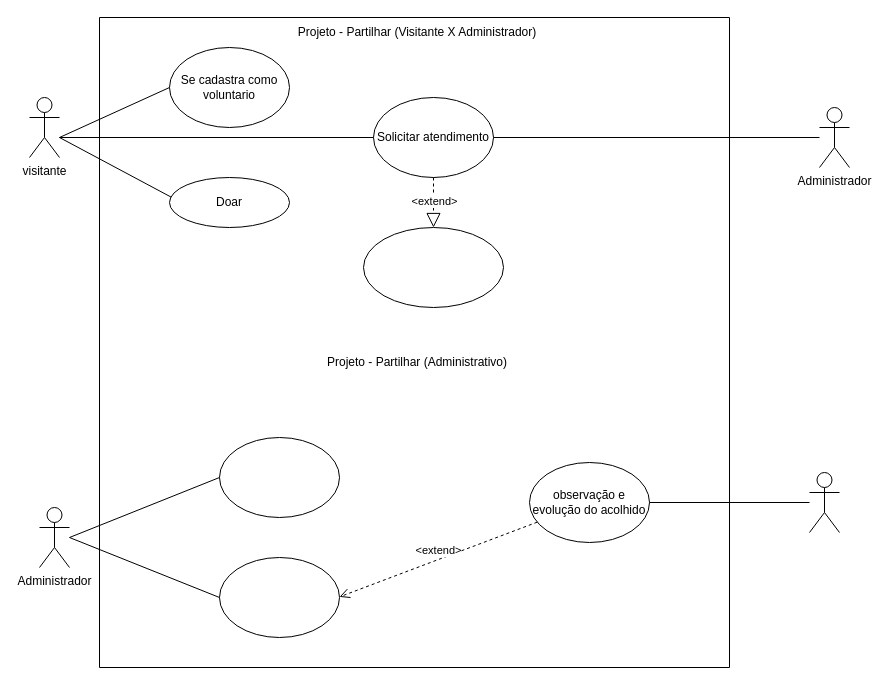
Image size: 888x686. Some labels were removed from this diagram. Each missing label, with the centre of its shape:
"Recebe os formularios do voluntariado" belongs at (279,477).
"Verifica a planilha com datas e horários" belongs at (433,267).
"Visualiza planilha" belongs at (279,597).
"Voluntário / Profissional" belongs at (824,502).
